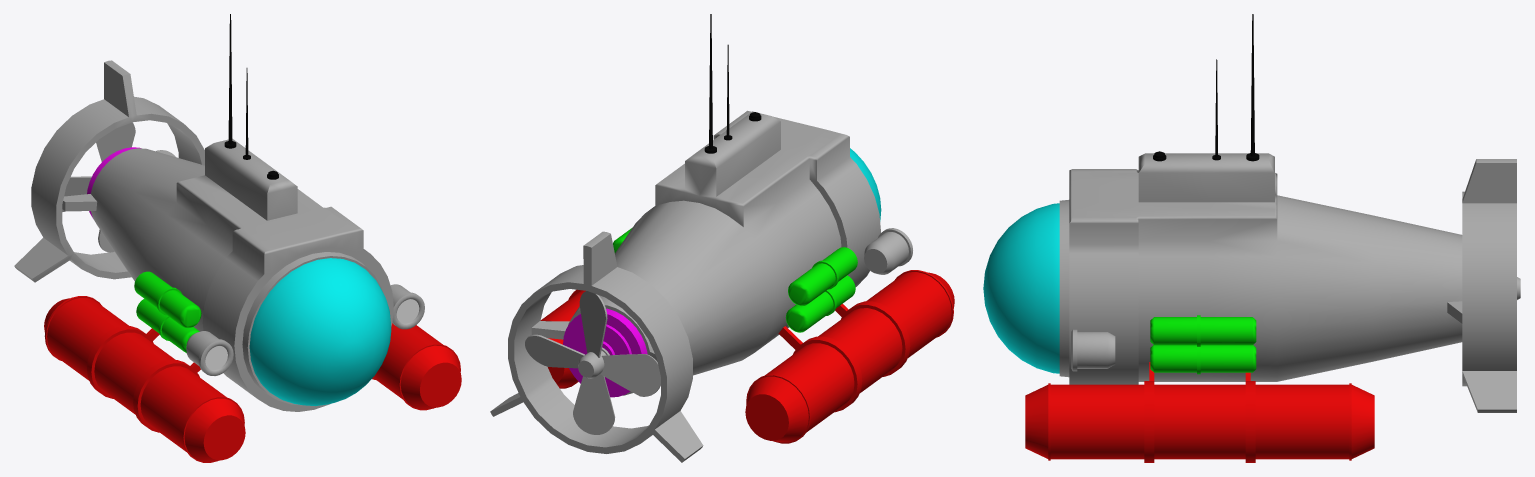
File: MiniSubmarine 1.fbx
The picture shows the model from 3 angles, left to right: view 1: azimuth 30°, elevation 25°; view 2: azimuth 150°, elevation 25°; view 3: azimuth 270°, elevation 25°; orthographic projection. The views are drawn at different scales.
Visible parts, largest first — view 1: MiniSub, Prop; view 2: MiniSub, Prop; view 3: MiniSub.
Boxes of the visible parts, bbox=[...] form: MiniSub: bbox=[14, 14, 461, 462]; Prop: bbox=[62, 122, 175, 252]; MiniSub: bbox=[490, 14, 954, 462]; Prop: bbox=[525, 291, 660, 434]; MiniSub: bbox=[983, 14, 1516, 462].
Size of the model in its own units: 110 by 166 by 133.
